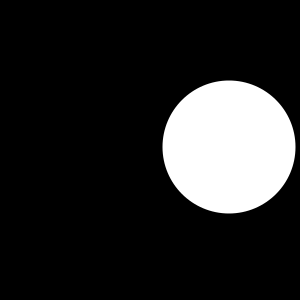rectangle: (162, 80, 296, 214)
